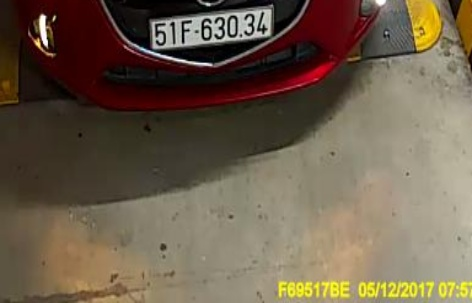plate: (143, 4, 284, 56)
